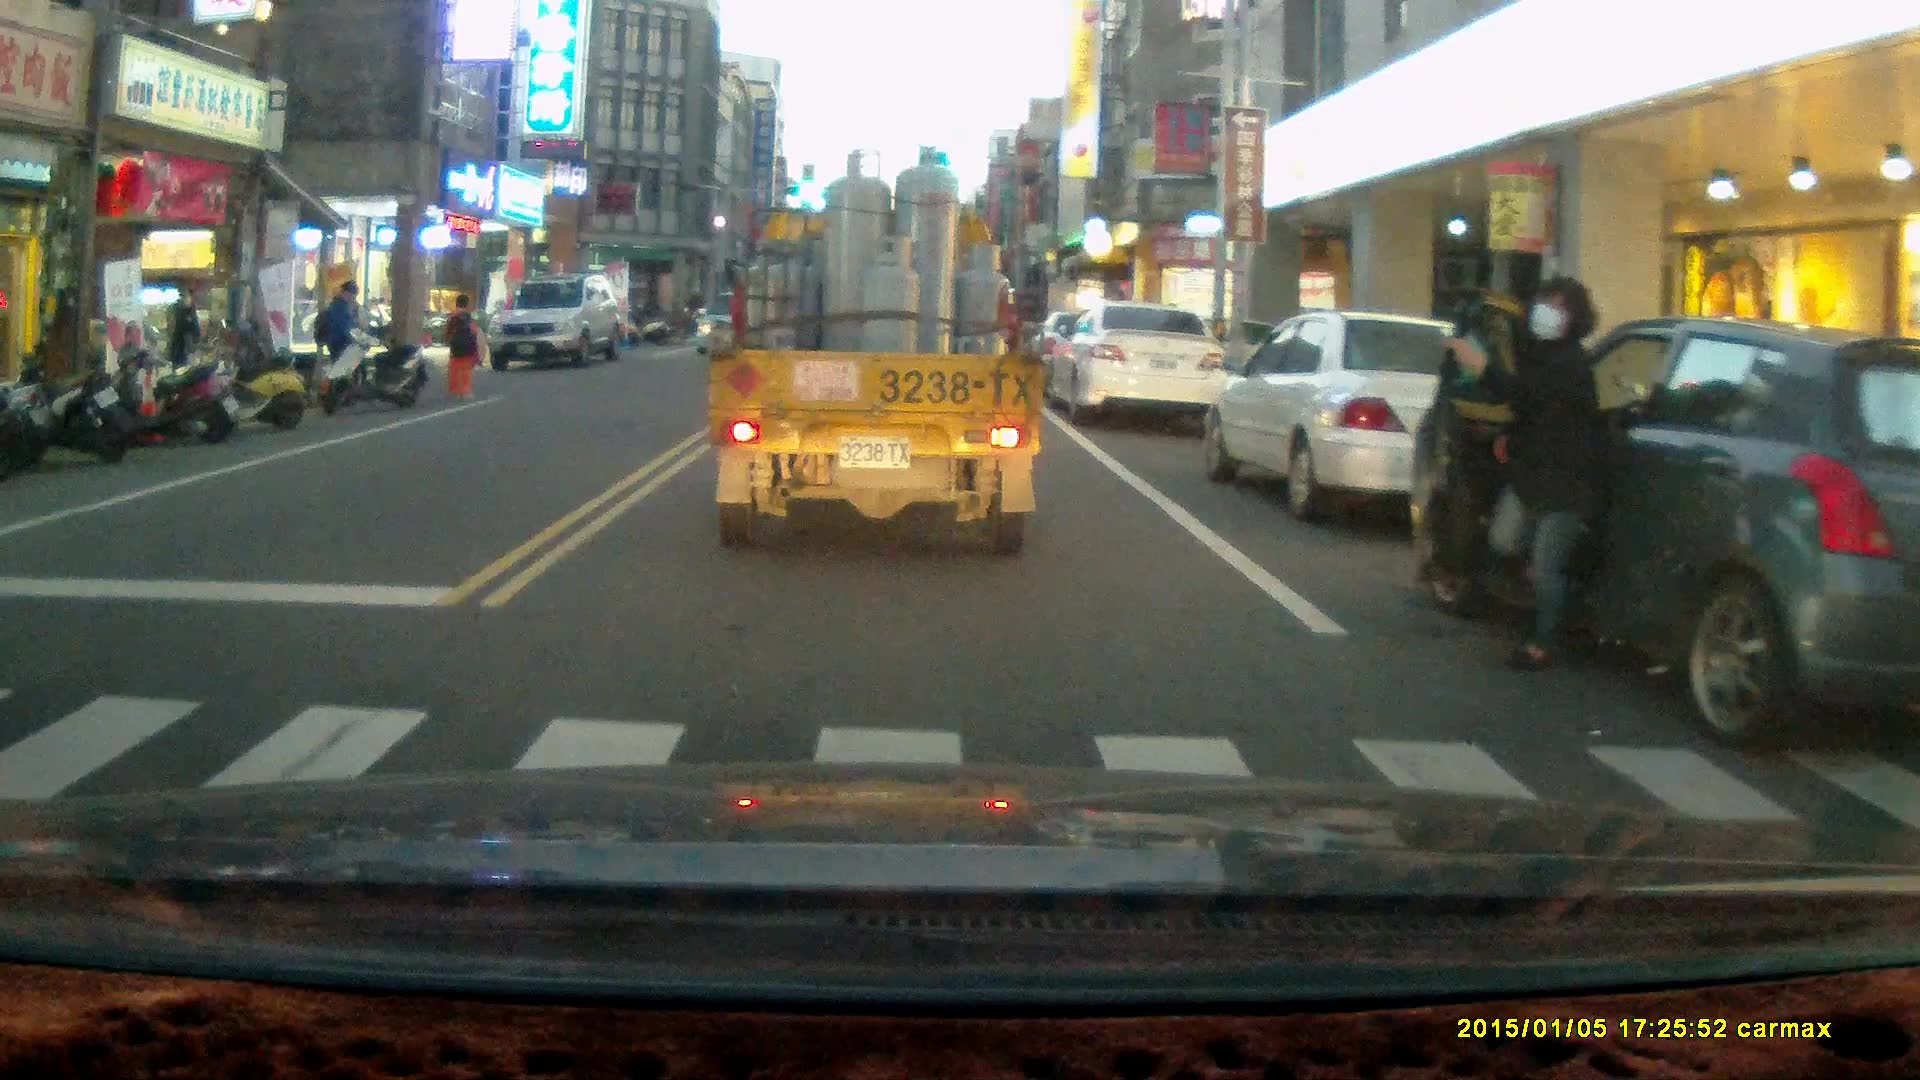pedestrian: (1441, 272, 1607, 678), (312, 278, 361, 400), (165, 285, 205, 410), (444, 291, 481, 396)
vehicle: (1419, 316, 1920, 755), (704, 140, 1053, 559), (1209, 315, 1560, 524), (1058, 304, 1241, 427), (489, 280, 627, 373)
